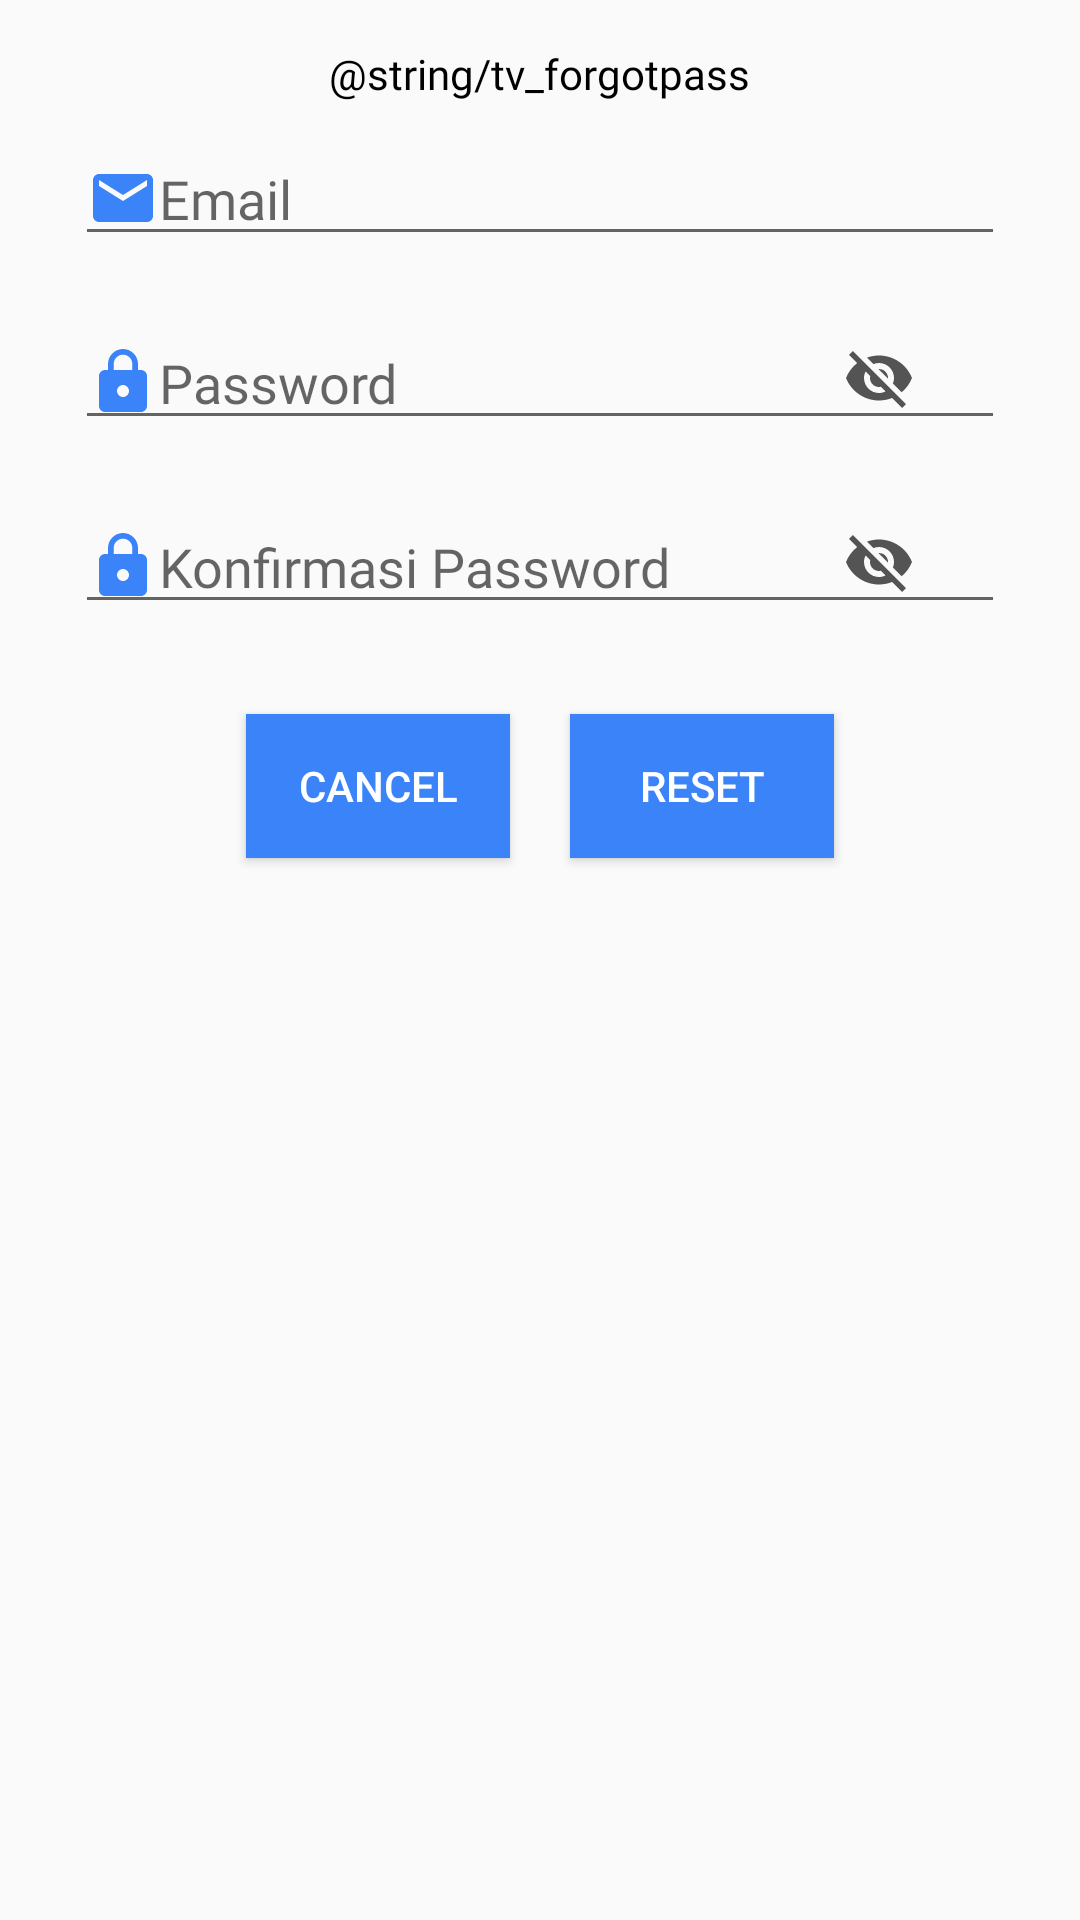

Point at icon controls on the screen. Image size 1080px x 1920px, points as (x,y).
hide pass: (879,379), (879,563)
